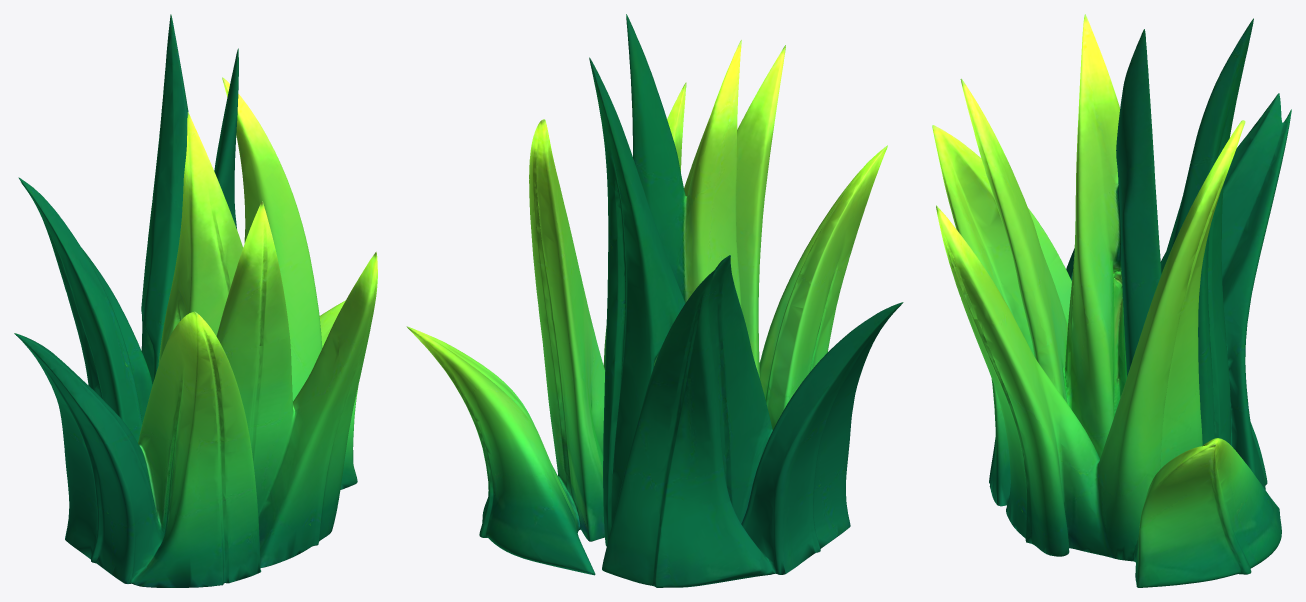
Rendered from mato_grama.glb.
3 renders of one model, left to right at view 1: azimuth 30°, elevation 25°; view 2: azimuth 150°, elevation 25°; view 3: azimuth 270°, elevation 25°, orthographic. The views are drawn at different scales.
Parts seen in each view (by area): view 1: mesh_node; view 2: mesh_node; view 3: mesh_node.
Part boxes in pixels (bbox=[...]): mesh_node: bbox=[14, 14, 377, 587]; mesh_node: bbox=[406, 14, 903, 587]; mesh_node: bbox=[932, 14, 1291, 587].
Size of the model in its own units: 1.74 by 1.9 by 1.23.
Materials: 1 (1 with a texture image).
